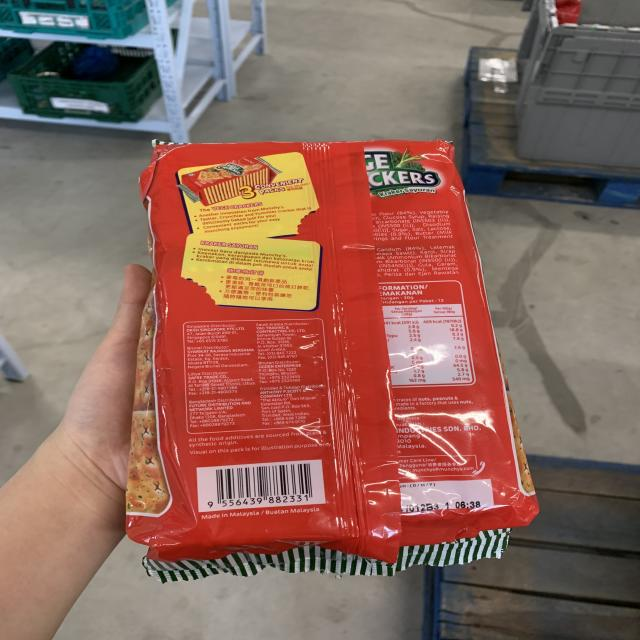object_name: (136, 151, 506, 545)
